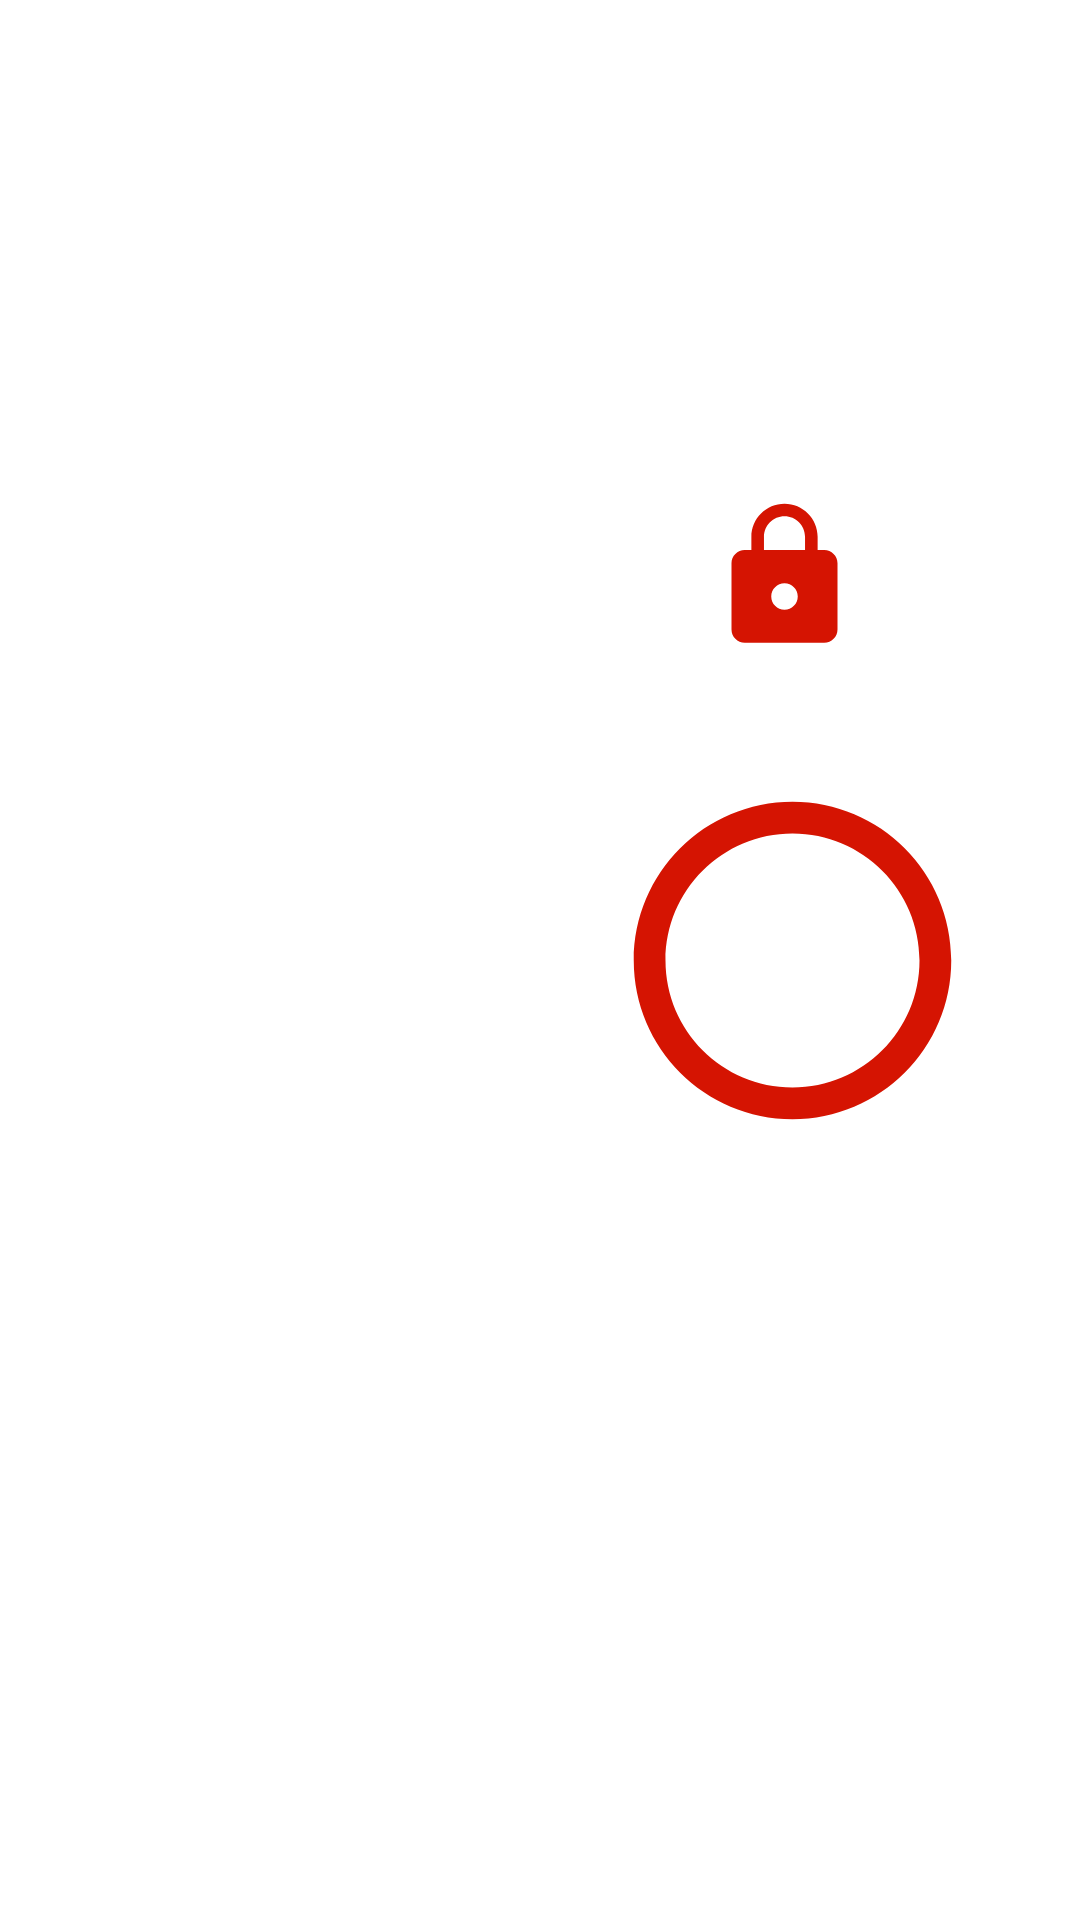

Icons on this 1080 x 1920 Android screen, each with the point to tap as (x=x, y=y):
lock: (x=784, y=573)
radio unchecked: (x=792, y=960)
